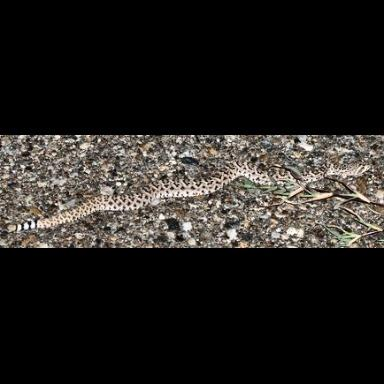snake: (0, 134, 384, 250)
